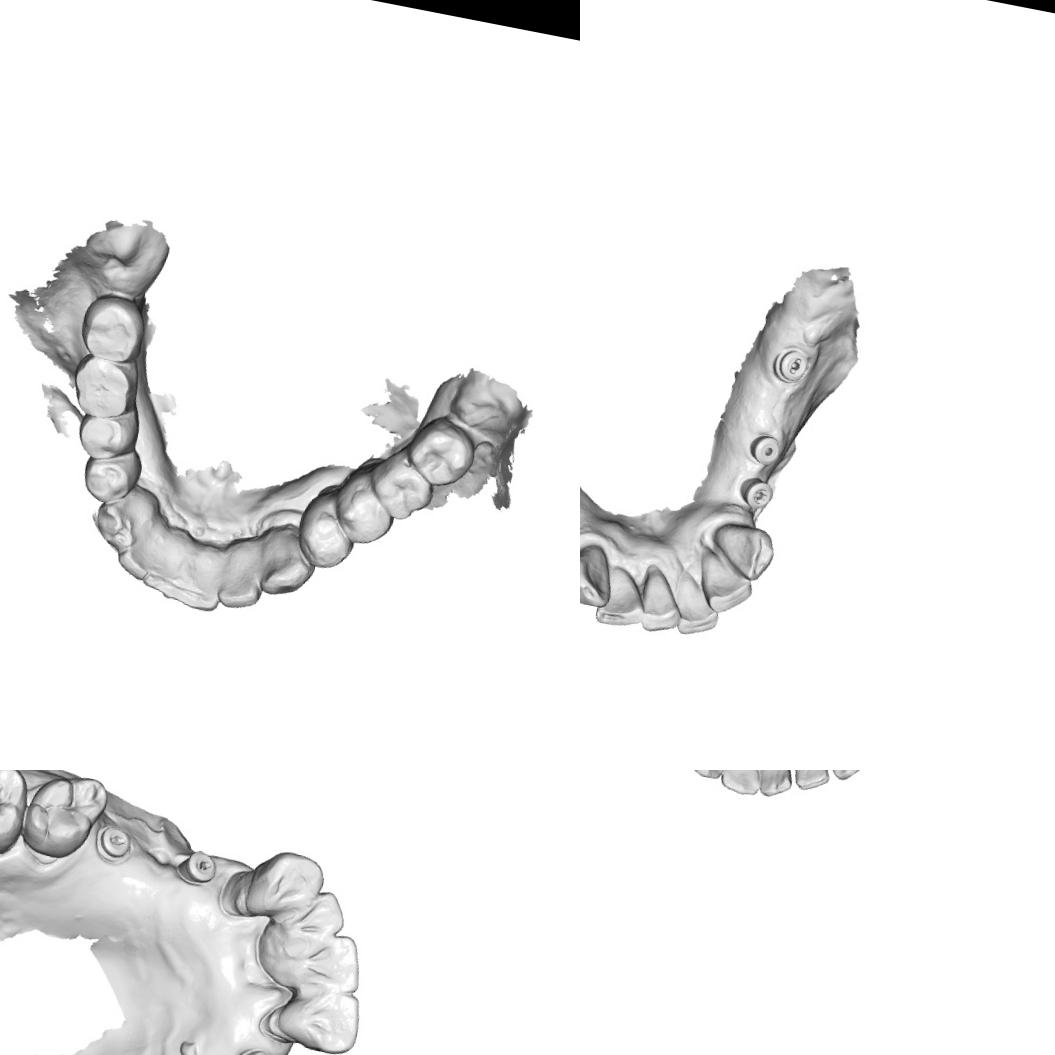canine: (703, 516, 778, 584), (252, 528, 318, 601), (83, 488, 152, 556), (580, 535, 621, 611)
implant: (742, 423, 794, 475)
implant_minus: (770, 340, 820, 393), (178, 849, 218, 887), (99, 824, 136, 860), (233, 1044, 276, 1055)
implant_plus: (733, 471, 781, 518)
incisor: (268, 977, 367, 1055), (240, 842, 330, 926), (284, 922, 370, 997), (688, 543, 759, 619), (664, 564, 728, 642), (591, 562, 652, 632), (632, 564, 686, 638), (282, 882, 350, 940), (177, 546, 229, 616), (214, 554, 267, 613), (142, 538, 190, 599), (111, 530, 160, 581), (716, 770, 773, 801), (746, 770, 801, 802), (783, 770, 837, 795), (812, 770, 873, 784)
molar: (16, 770, 113, 866), (401, 412, 482, 493), (62, 350, 146, 427), (361, 447, 438, 527), (75, 290, 150, 366), (0, 770, 33, 859)
premolar: (289, 495, 359, 575), (332, 474, 398, 550), (69, 408, 135, 464), (76, 449, 136, 508)
